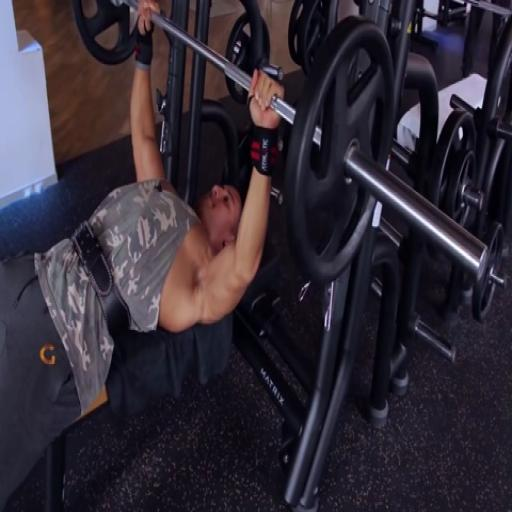exercise: (0, 0, 287, 511)
